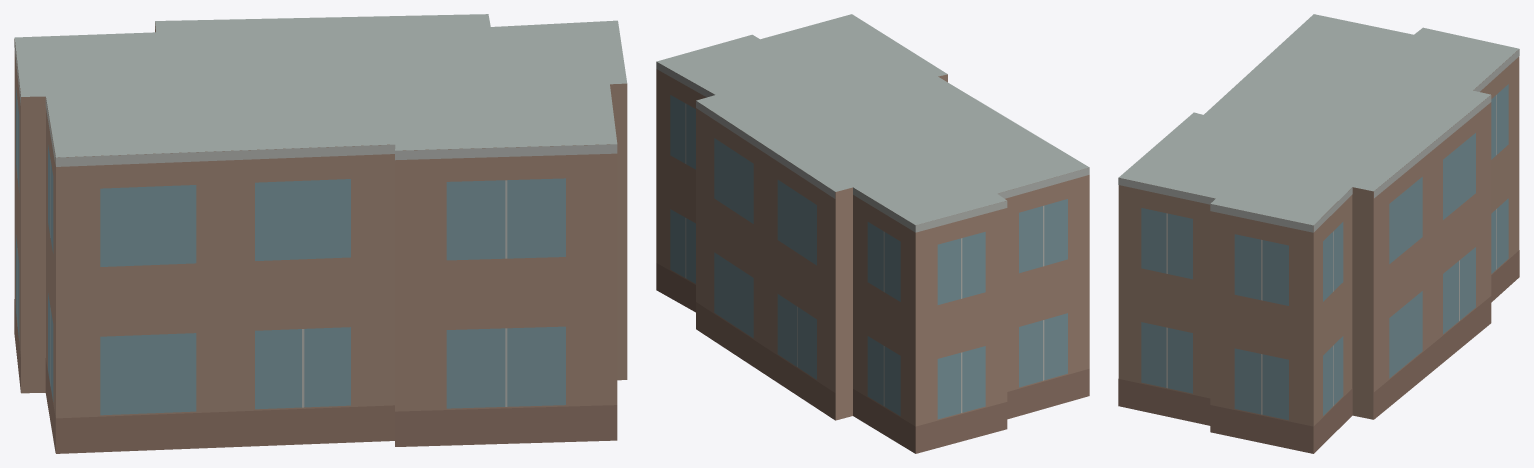
File: survey-upis-32655230.glb
The picture shows the model from 3 angles, left to right: view 1: azimuth 30°, elevation 25°; view 2: azimuth 150°, elevation 25°; view 3: azimuth 270°, elevation 25°; orthographic projection. The views are drawn at different scales.
Parts seen in each view (by area): view 1: survey-upis-32655230.tmp; view 2: survey-upis-32655230.tmp; view 3: survey-upis-32655230.tmp.
Part boxes in pixels (x1=…): survey-upis-32655230.tmp: x1=14, y1=14, x2=627, y2=453; survey-upis-32655230.tmp: x1=656, y1=14, x2=1089, y2=453; survey-upis-32655230.tmp: x1=1118, y1=14, x2=1519, y2=453.
Size of the model in its own units: 15.09 by 7.6 by 12.1.
